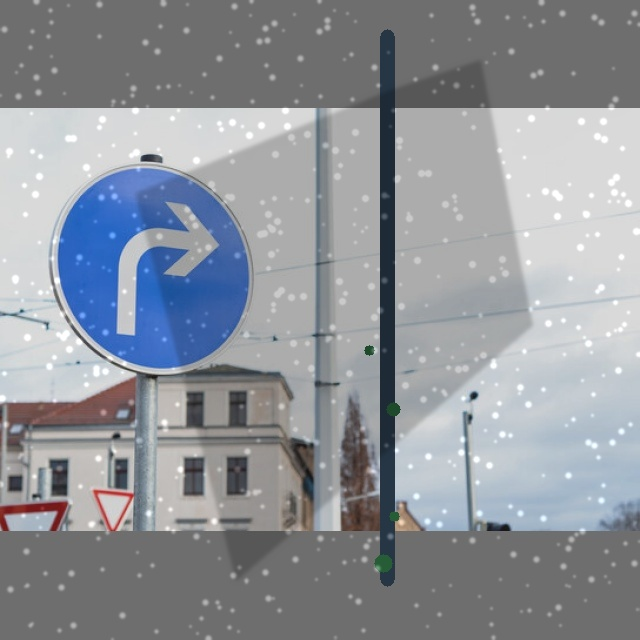Compulsory_Turn_Right_Ahead: (54, 162, 248, 377)
